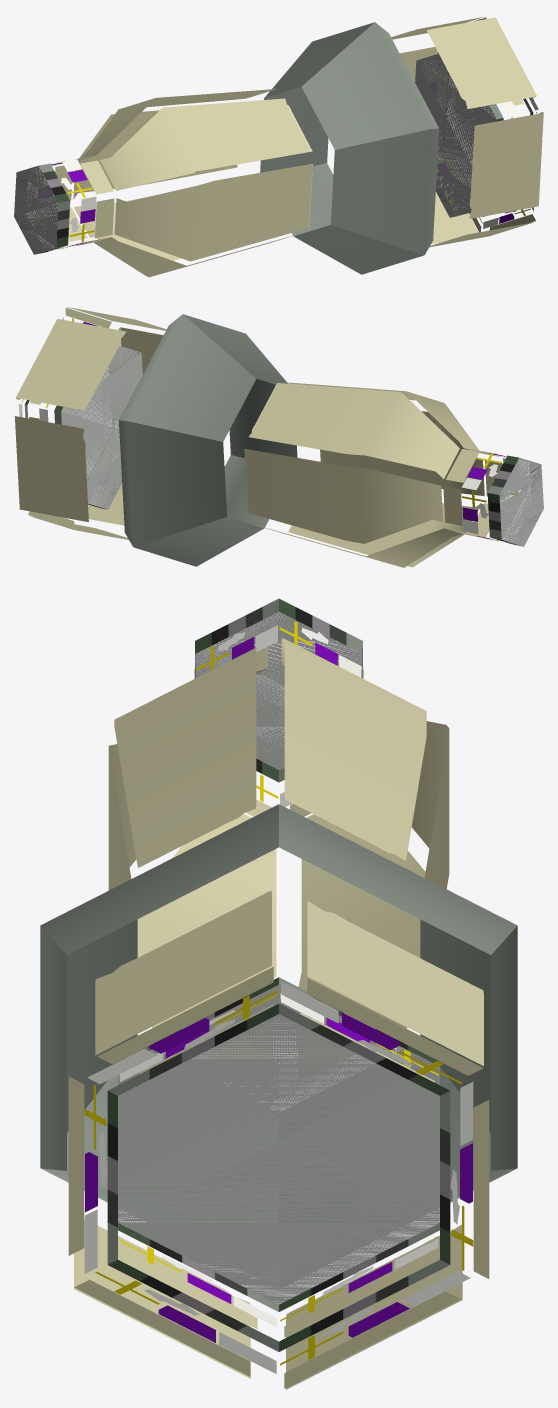
Rendered from switchboard_plug.fbx.
3 renders of one model, top to bottom at view 1: azimuth 30°, elevation 25°; view 2: azimuth 150°, elevation 25°; view 3: azimuth 270°, elevation 25°, orthographic. The views are drawn at different scales.
Parts seen in each view (by area): view 1: switchboard_plug; view 2: switchboard_plug; view 3: switchboard_plug.
Part boxes in pixels (left/top/right/bottom): switchboard_plug: left=14, top=16, right=543, bottom=277; switchboard_plug: left=14, top=307, right=543, bottom=567; switchboard_plug: left=40, top=598, right=517, bottom=1389.
Size of the model in its own units: 0.2764 by 0.1432 by 0.1242.
